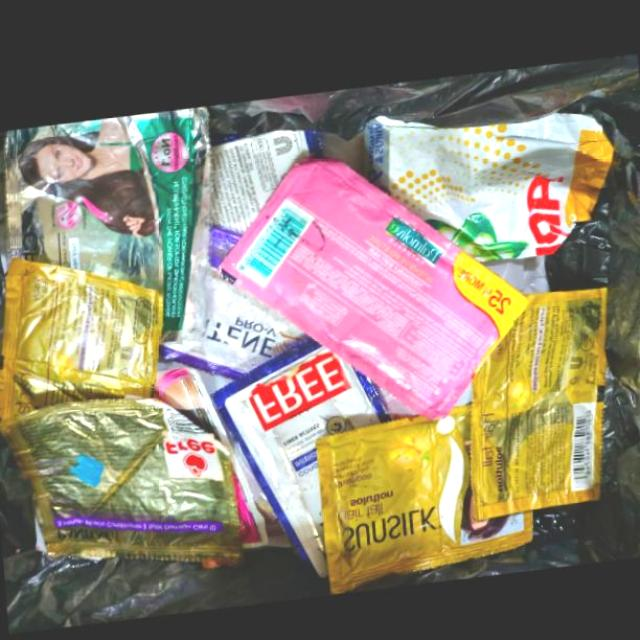goi_nhua_nho: (220, 154, 531, 417), (0, 102, 210, 339), (1, 391, 258, 562), (213, 339, 390, 579), (316, 401, 534, 592), (365, 111, 616, 260), (471, 286, 608, 519), (0, 250, 165, 413), (162, 222, 312, 374), (202, 119, 325, 228)
